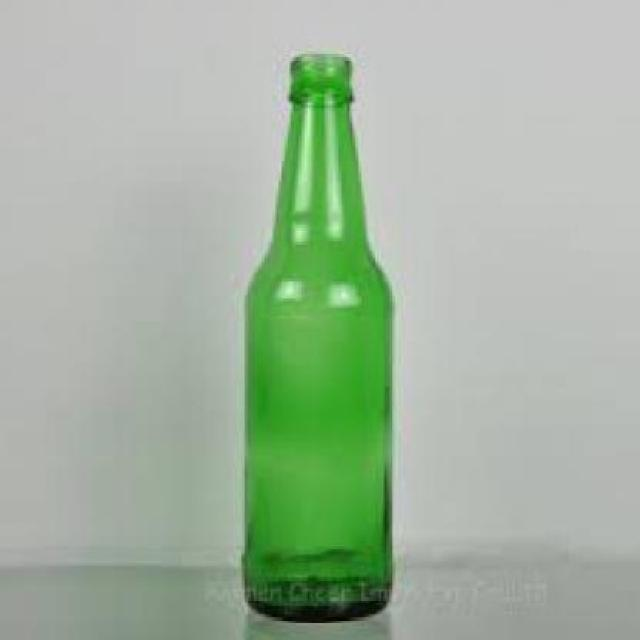kaca: (242, 51, 389, 623)
